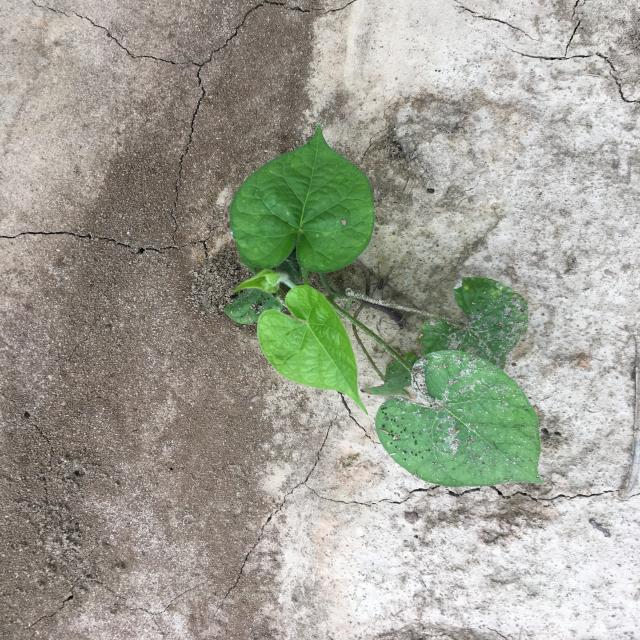MorningGlory: (223, 122, 545, 486)
